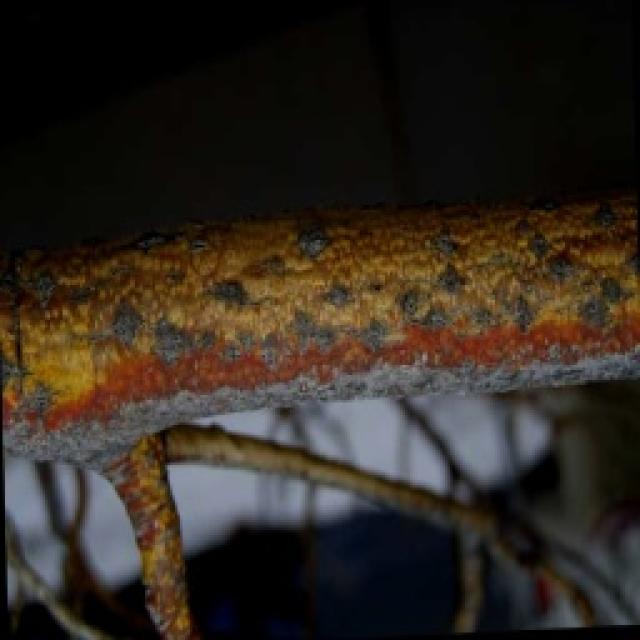Golden_canker: (1, 179, 640, 580)
